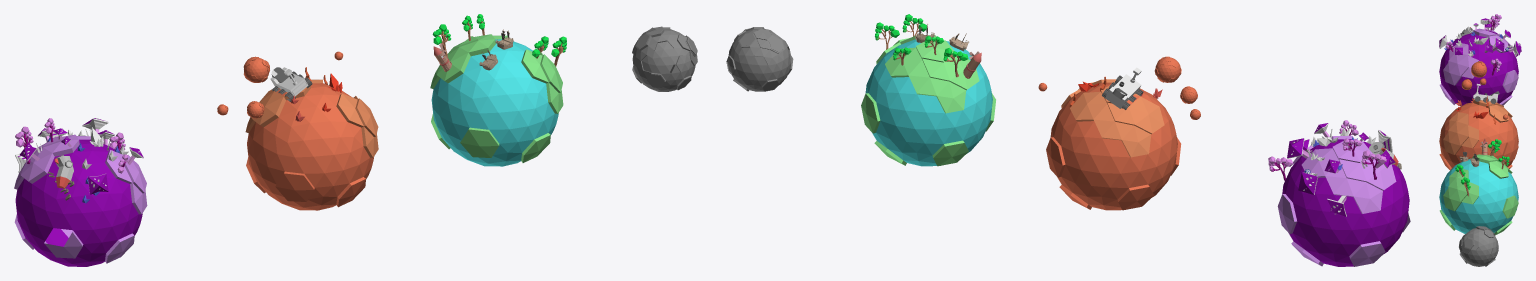
Rendered from agaga.fbx.
The picture shows the model from 3 angles, left to right: view 1: azimuth 30°, elevation 25°; view 2: azimuth 150°, elevation 25°; view 3: azimuth 270°, elevation 25°; orthographic projection. The views are drawn at different scales.
Parts seen in each view (by area): view 1: Cylinder, Icosphere.004, Cube.034, Icosphere.015; view 2: Cylinder, Icosphere.004, Cube.034, Icosphere.015; view 3: Cube.034, Cylinder, Icosphere.004, Icosphere.015.
Part boxes in pixels (x1,y1,x2,y2): Cylinder: (14,118,147,266); Icosphere.004: (217,51,378,210); Cube.034: (430,14,566,166); Icosphere.015: (632,26,697,91); Cylinder: (1268,120,1410,266); Icosphere.004: (1038,56,1200,210); Cube.034: (861,14,995,166); Icosphere.015: (726,27,793,91); Cube.034: (1439,139,1518,234); Cylinder: (1439,14,1521,105); Icosphere.004: (1439,61,1518,170); Icosphere.015: (1459,226,1498,266).
Size of the model in its own units: 1194 by 276 by 207.
